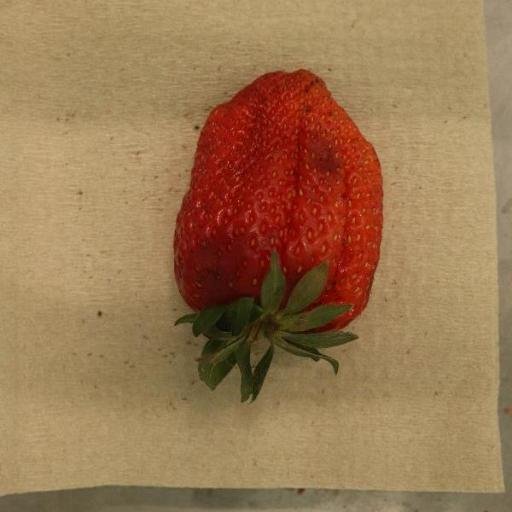Strawberry: (174, 69, 384, 405)
